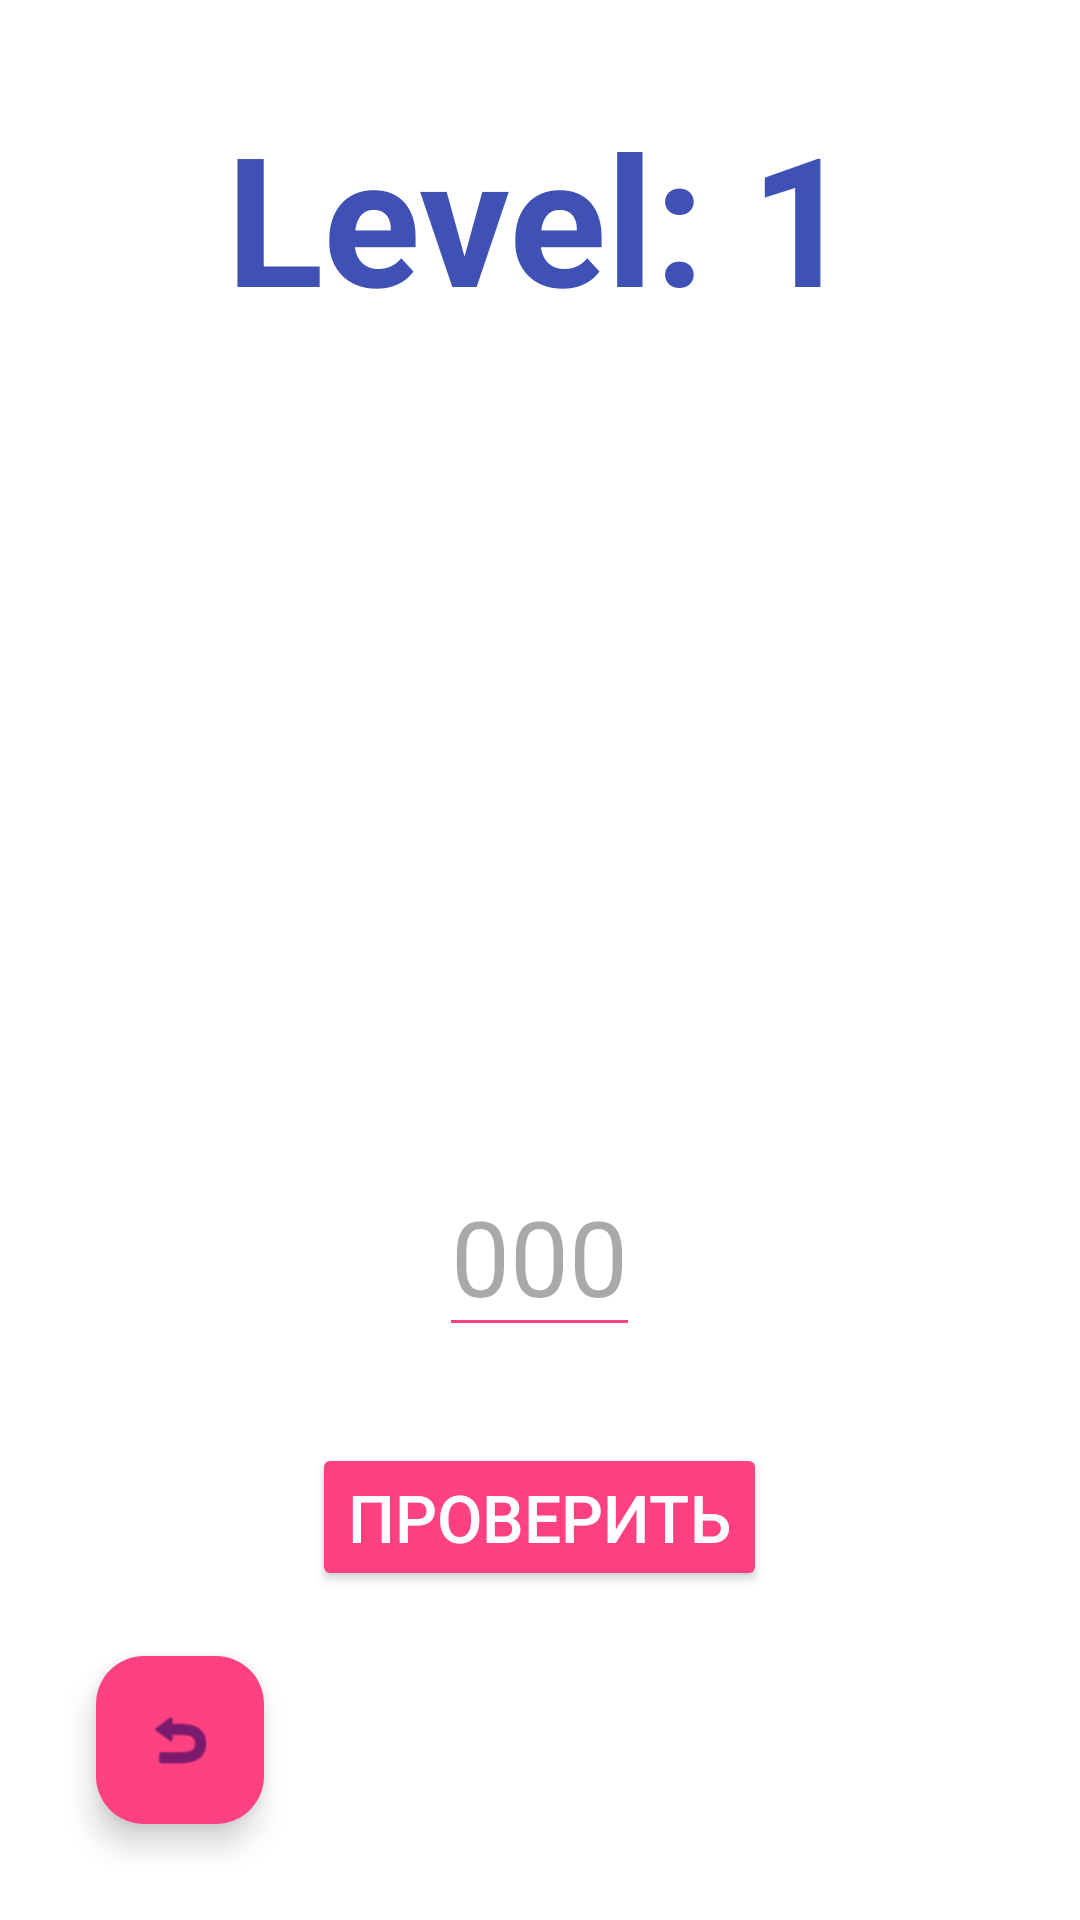

Icon bounding boxes for this 1080×1920 phone screenshot, format (x1, y1, x2, y2):
revert: (96, 1656, 264, 1824)
